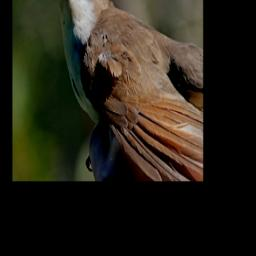Cuckoo: (43, 0, 203, 181)
